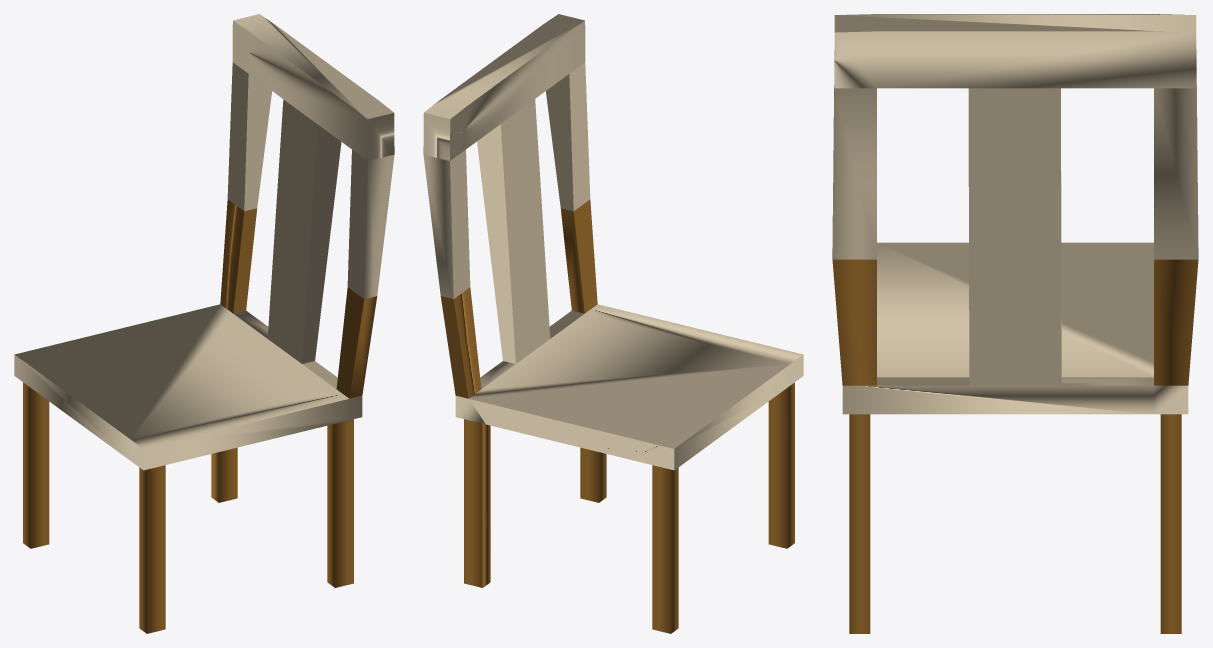
The model's file is dining chair_v01.fbx.
The picture shows the model from 3 angles, left to right: view 1: azimuth 30°, elevation 25°; view 2: azimuth 150°, elevation 25°; view 3: azimuth 270°, elevation 25°; orthographic projection. The views are drawn at different scales.
Parts seen in each view (by area): view 1: Chair01; view 2: Chair01; view 3: Chair01.
Part boxes in pixels (x1,y1,x2,y2): Chair01: (14, 14, 394, 633); Chair01: (423, 14, 803, 633); Chair01: (832, 14, 1198, 633).
Bounding box in the file's own units: 82.63 × 149 × 78.92.
